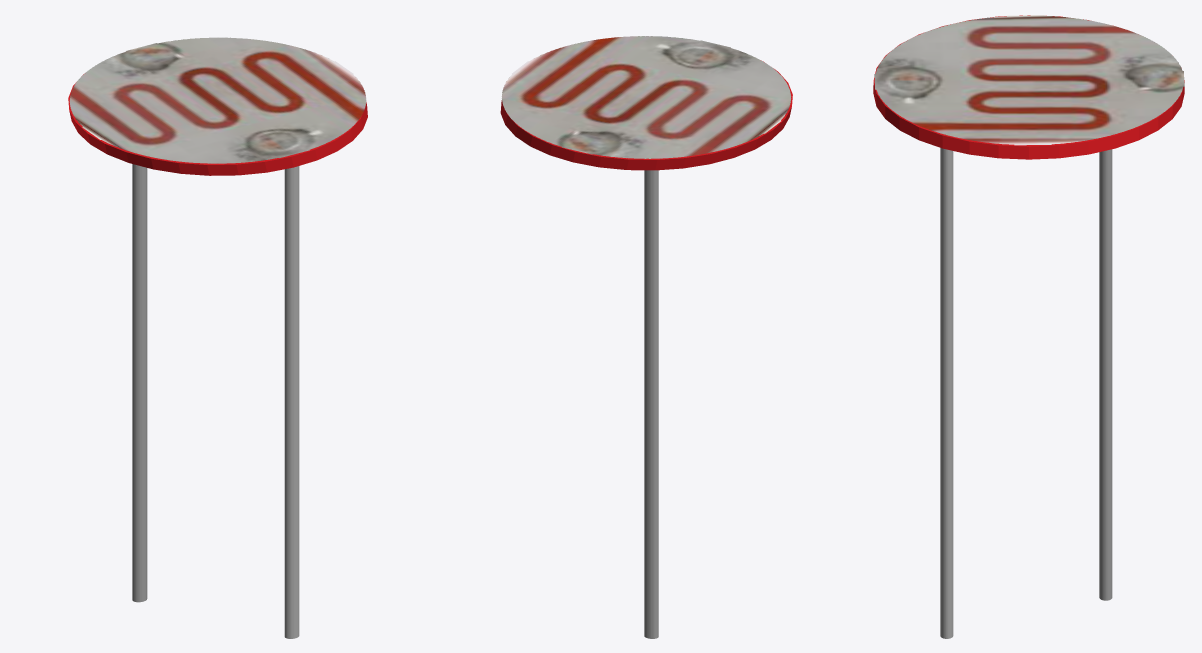
Rendered from ldr2.fbx.
3 renders of one model, left to right at view 1: azimuth 30°, elevation 25°; view 2: azimuth 150°, elevation 25°; view 3: azimuth 270°, elevation 25°, orthographic. The views are drawn at different scales.
Parts seen in each view (by area): view 1: ldr4-modified; view 2: ldr4-modified; view 3: ldr4-modified.
Boxes of the visible parts, <box> form: ldr4-modified: <box>68,37,367,638</box>; ldr4-modified: <box>500,36,792,638</box>; ldr4-modified: <box>873,15,1184,638</box>.
Size of the model in its own units: 203 by 382 by 203.
4 materials, 1 textured.
